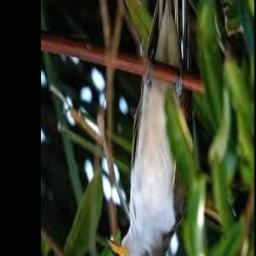Cuckoo: (108, 0, 193, 256)
